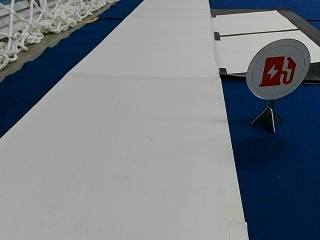battery: (243, 38, 309, 99)
